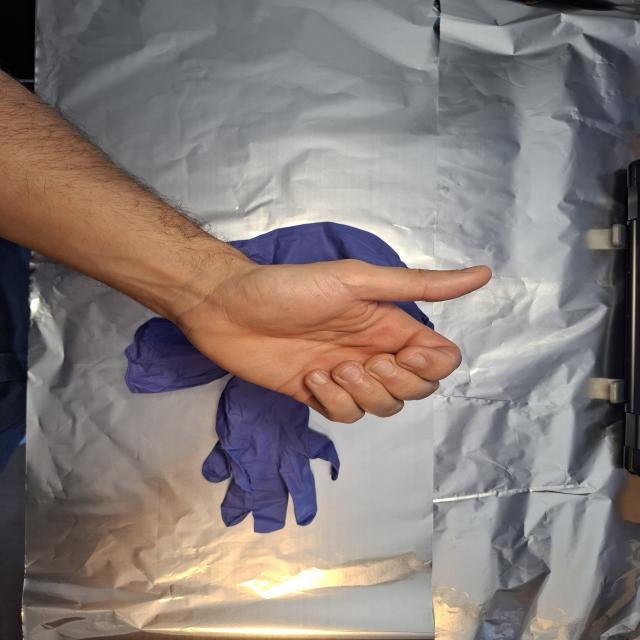glove_off: (161, 257, 495, 426)
